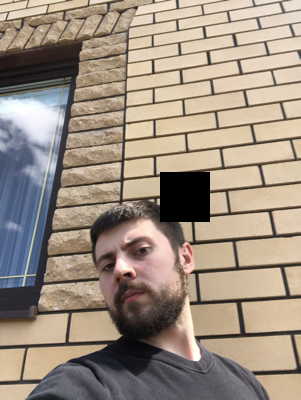without_mask: (96, 233, 186, 341)
